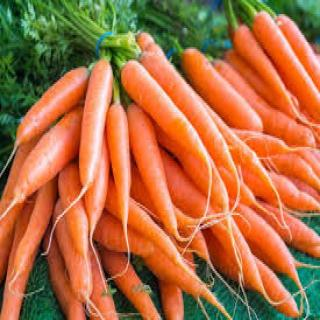carrot: (119, 59, 220, 177), (7, 64, 92, 158), (72, 54, 113, 208), (105, 95, 131, 245)
